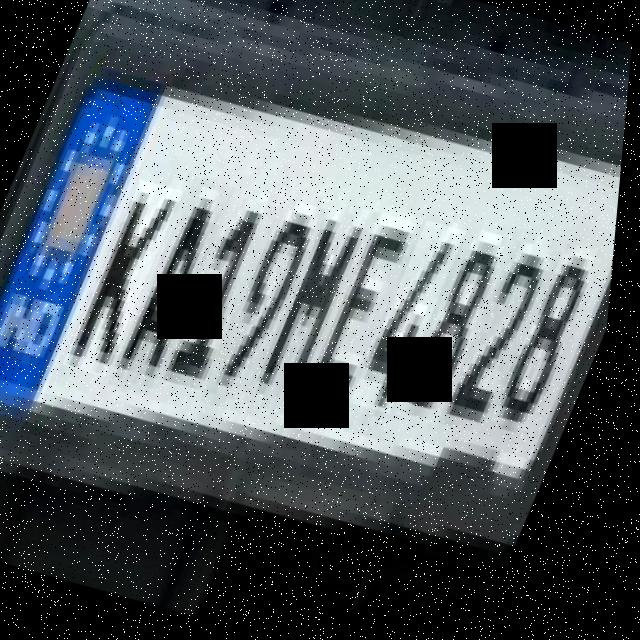1: (163, 190, 287, 400)
4: (356, 224, 472, 422)
8: (401, 233, 521, 435), (497, 256, 608, 444)
9: (212, 206, 326, 403)
A: (113, 177, 240, 401)
E: (309, 211, 429, 420)
K: (68, 179, 188, 381)
M: (256, 203, 381, 417)
